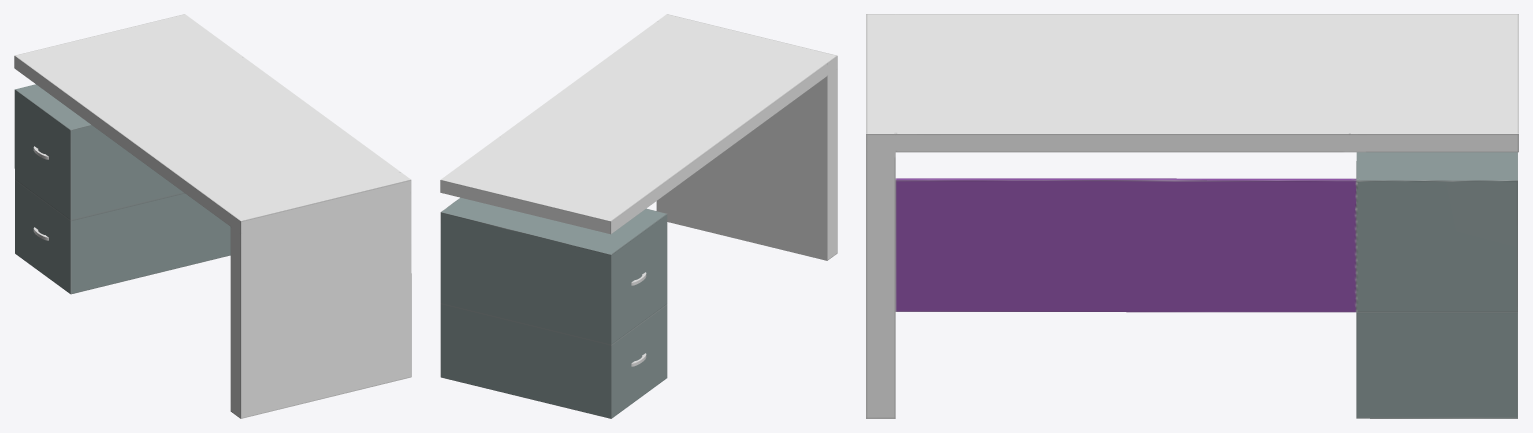
The model's file is Office Desk.fbx.
3 renders of one model, left to right at view 1: azimuth 30°, elevation 25°; view 2: azimuth 150°, elevation 25°; view 3: azimuth 270°, elevation 25°, orthographic. The views are drawn at different scales.
Parts seen in each view (by area): view 1: pPipe2; view 2: pPipe2; view 3: pPipe2.
Part boxes in pixels (left/top/right/bottom): pPipe2: left=14, top=14, right=411, bottom=418; pPipe2: left=440, top=14, right=837, bottom=418; pPipe2: left=866, top=14, right=1518, bottom=418.
Size of the model in its own units: 4.94 by 5.35 by 11.11.
Materials: 2 (1 with a texture image).
